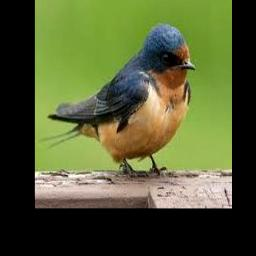Swallow: (40, 23, 196, 172)
